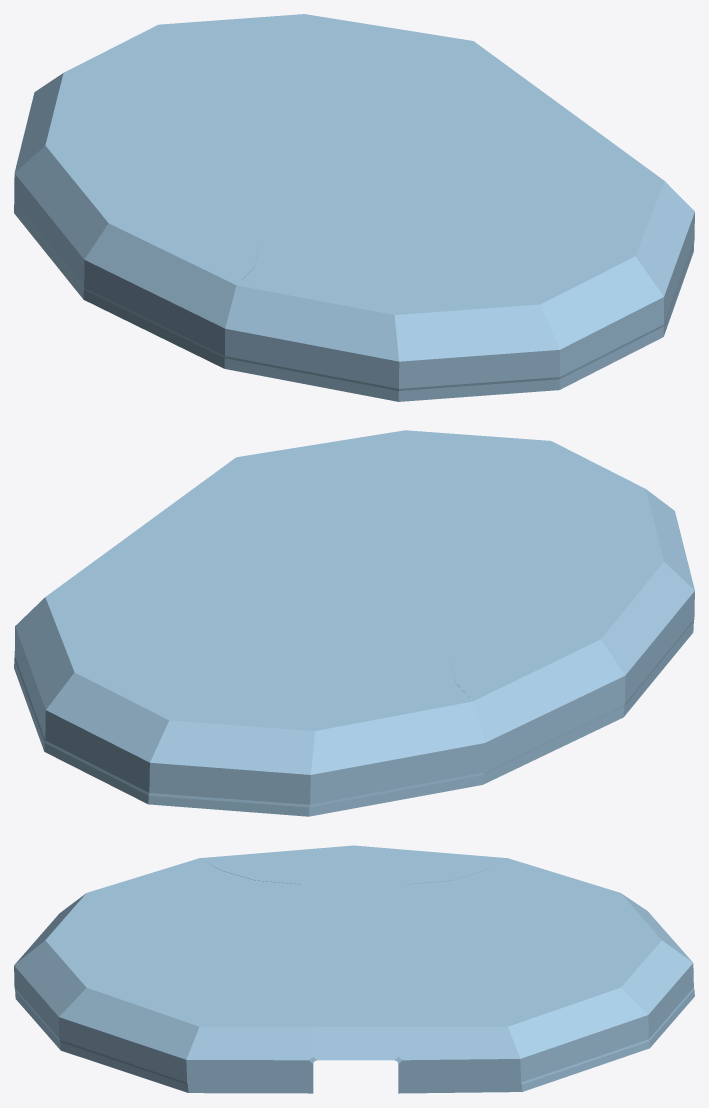
Rendered from Cafeteria.fbx.
The picture shows the model from 3 angles, top to bottom: view 1: azimuth 30°, elevation 25°; view 2: azimuth 150°, elevation 25°; view 3: azimuth 270°, elevation 25°; orthographic projection. The views are drawn at different scales.
Visible parts, largest first — view 1: Circle; view 2: Circle; view 3: Circle.
Part boxes in pixels (bbox=[...]): Circle: bbox=[14, 14, 694, 401]; Circle: bbox=[14, 430, 694, 816]; Circle: bbox=[14, 845, 694, 1093].
Size of the model in its own units: 15541 by 2131 by 22304.
